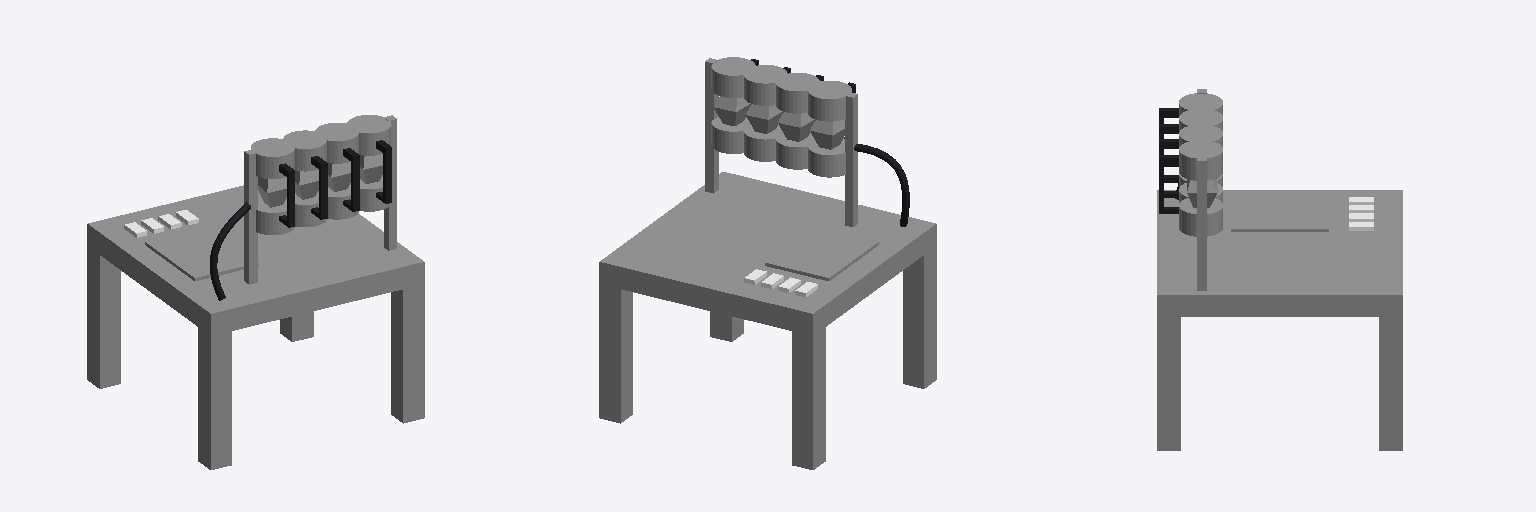
The model's file is translation_desk.obj.
The picture shows the model from 3 angles: view 1: azimuth 30°, elevation 25°; view 2: azimuth 150°, elevation 25°; view 3: azimuth 270°, elevation 25°; orthographic projection.
Parts seen in each view (by area): view 1: tabletop_Cube.005, leg2_Cube.001, leg3_Cube.002, leg1_Cube, screen_Cube.004, holder2_Cube.015, crystaltop4_Cylinder.003, crystaltop3_Cylinder.001, crystaltop1_Cylinder.000, crystaltop2_Cylinder.002, holder_Cube.016, crystaldown4_Cylinder.009 (+13 smaller); view 2: tabletop_Cube.005, leg1_Cube, leg4_Cube.003, leg2_Cube.001, screen_Cube.004, holder2_Cube.015, crystaltop4_Cylinder.003, crystaltop1_Cylinder.000, crystaltop3_Cylinder.001, holder_Cube.016, crystaltop2_Cylinder.002, crystaldown4_Cylinder.009 (+9 smaller); view 3: tabletop_Cube.005, screen_Cube.004, leg4_Cube.003, leg3_Cube.002, crystaltop1_Cylinder.000, holder_Cube.016, crystaldown1_Cylinder.012, crystaltop3_Cylinder.001, crystaltop4_Cylinder.003, crystaltop2_Cylinder.002, wire11_Cube.017.
Boxes of the visible parts, x1,y1,x2,y2 form: tabletop_Cube.005: [87, 185, 424, 335]; leg2_Cube.001: [198, 327, 231, 469]; leg3_Cube.002: [391, 284, 424, 423]; leg1_Cube: [87, 246, 120, 388]; screen_Cube.004: [145, 226, 258, 280]; holder2_Cube.015: [244, 149, 257, 284]; crystaltop4_Cylinder.003: [251, 138, 294, 178]; crystaltop3_Cylinder.001: [283, 130, 326, 171]; crystaltop1_Cylinder.000: [347, 115, 390, 155]; crystaltop2_Cylinder.002: [315, 123, 358, 163]; holder_Cube.016: [384, 115, 396, 250]; crystaldown4_Cylinder.009: [256, 196, 294, 234]; tabletop_Cube.005: [599, 172, 936, 335]; leg1_Cube: [792, 327, 825, 469]; leg4_Cube.003: [599, 284, 632, 423]; leg2_Cube.001: [903, 246, 936, 388]; screen_Cube.004: [765, 226, 878, 280]; holder2_Cube.015: [845, 92, 857, 226]; crystaltop4_Cylinder.003: [808, 81, 851, 121]; crystaltop1_Cylinder.000: [711, 57, 755, 97]; crystaltop3_Cylinder.001: [776, 73, 819, 113]; holder_Cube.016: [705, 58, 718, 193]; crystaltop2_Cylinder.002: [744, 65, 787, 105]; crystaldown4_Cylinder.009: [808, 138, 845, 177]; tabletop_Cube.005: [1157, 190, 1402, 316]; screen_Cube.004: [1231, 197, 1328, 231]; leg4_Cube.003: [1379, 317, 1402, 450]; leg3_Cube.002: [1157, 317, 1180, 450]; crystaltop1_Cylinder.000: [1179, 140, 1222, 180]; holder_Cube.016: [1197, 157, 1206, 290]; crystaldown1_Cylinder.012: [1179, 198, 1222, 236]; crystaltop3_Cylinder.001: [1179, 109, 1222, 131]; crystaltop4_Cylinder.003: [1179, 93, 1222, 115]; crystaltop2_Cylinder.002: [1179, 126, 1222, 146]; wire11_Cube.017: [1159, 155, 1178, 213].
Size of the model in its own units: 1 by 1.28 by 1.